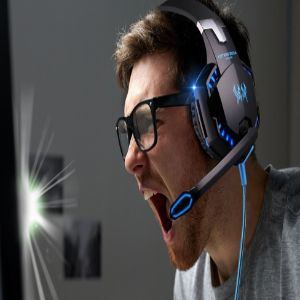headset: (183, 2, 270, 167)
